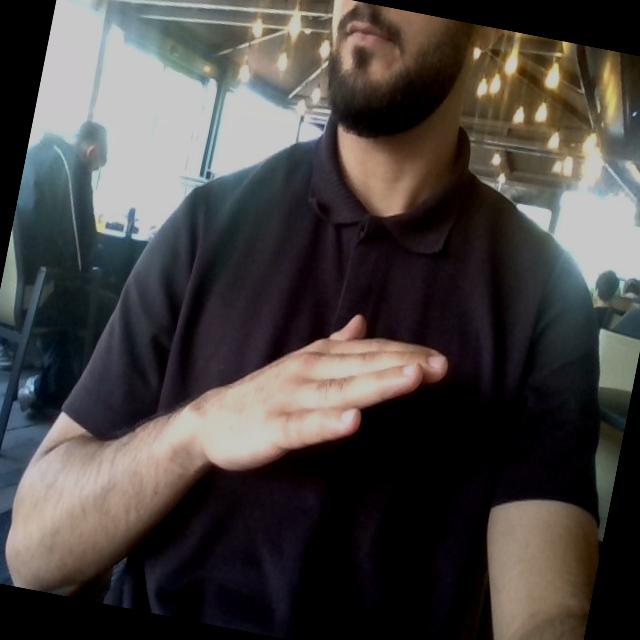Hand: (188, 315, 446, 470)
